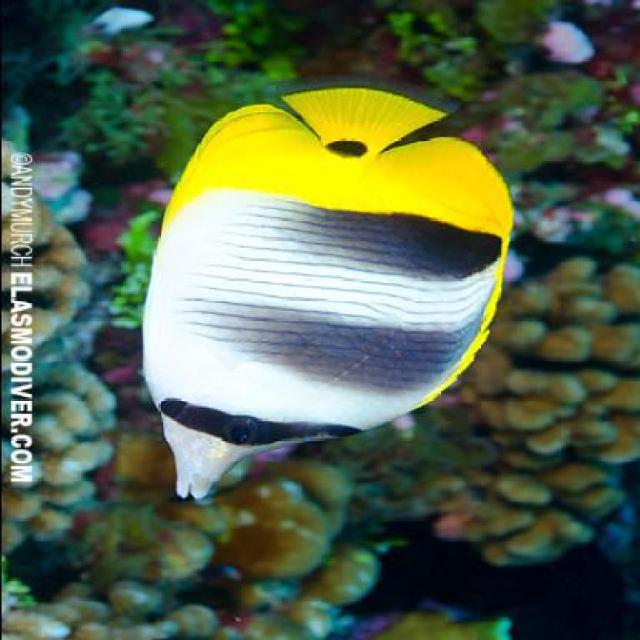ButterflyFish: (140, 79, 519, 500)
